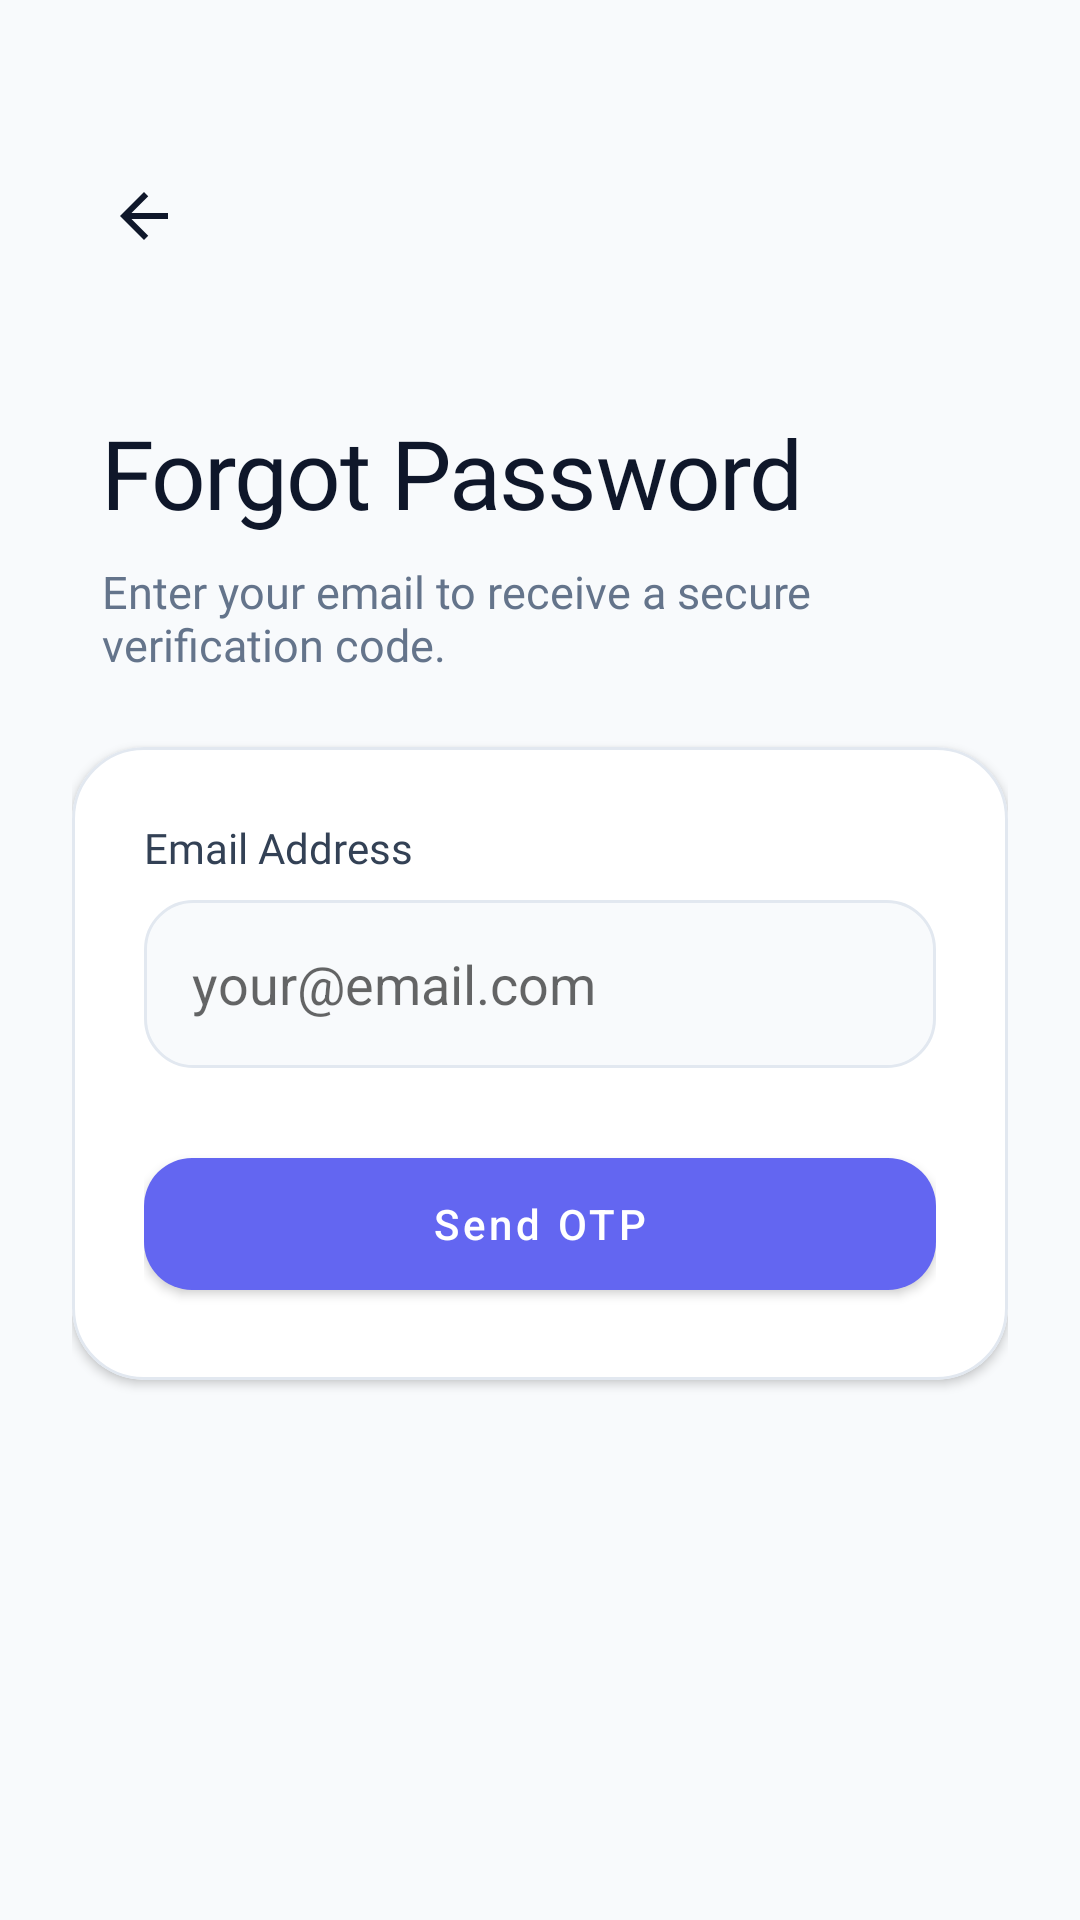

Named icons in this screenshot (1080*1920) and their centers, [x,y]:
Back: [144,216]
